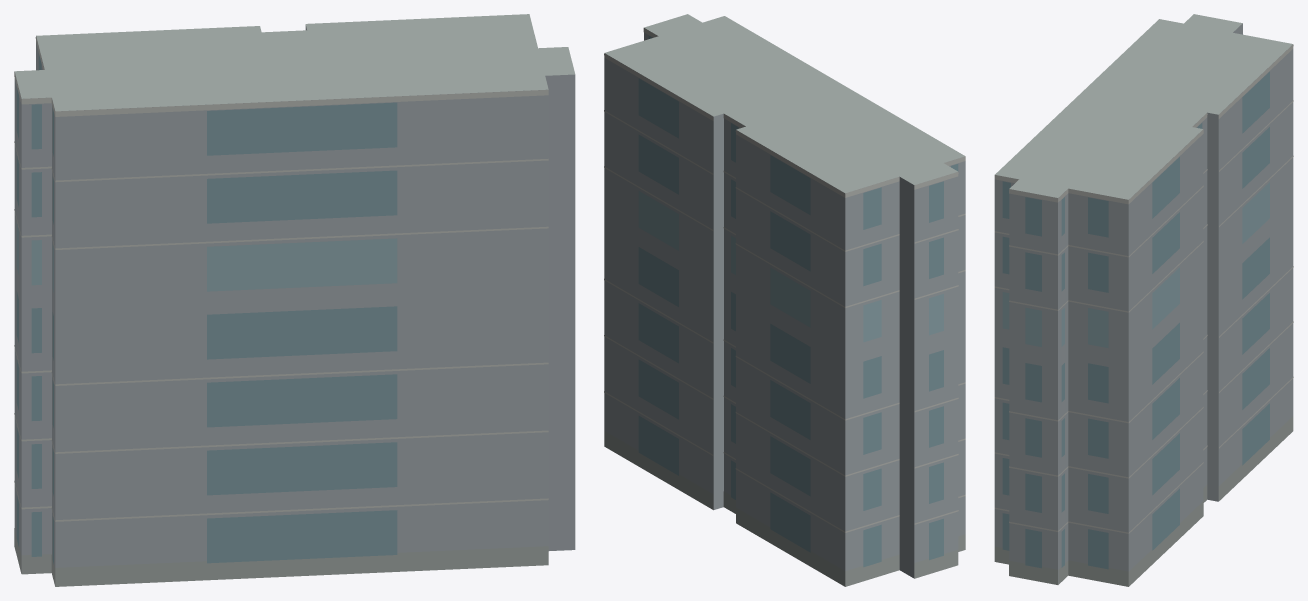
File: survey-upis-32670352.glb
3 views of the same model, side by side, from view 1: azimuth 30°, elevation 25°; view 2: azimuth 150°, elevation 25°; view 3: azimuth 270°, elevation 25° (orthographic). The views are drawn at different scales.
Parts seen in each view (by area): view 1: survey-upis-32670352.tmp; view 2: survey-upis-32670352.tmp; view 3: survey-upis-32670352.tmp.
Boxes of the visible parts, box(x1,y1,x2,y2) form: survey-upis-32670352.tmp: box(14, 14, 575, 586); survey-upis-32670352.tmp: box(604, 14, 965, 586); survey-upis-32670352.tmp: box(994, 14, 1293, 586).
Size of the model in its own units: 21.23 by 20.6 by 14.43.
